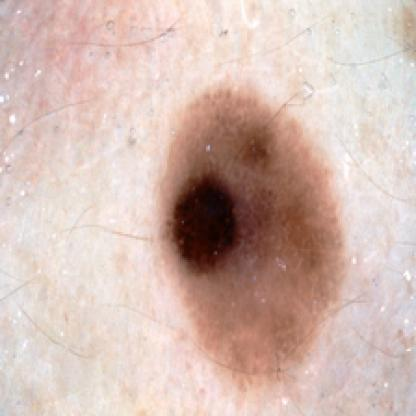malignant: (173, 93, 332, 362)
